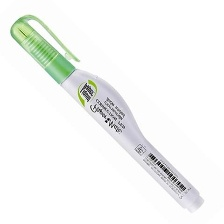correction_fluid: (9, 9, 205, 215)
